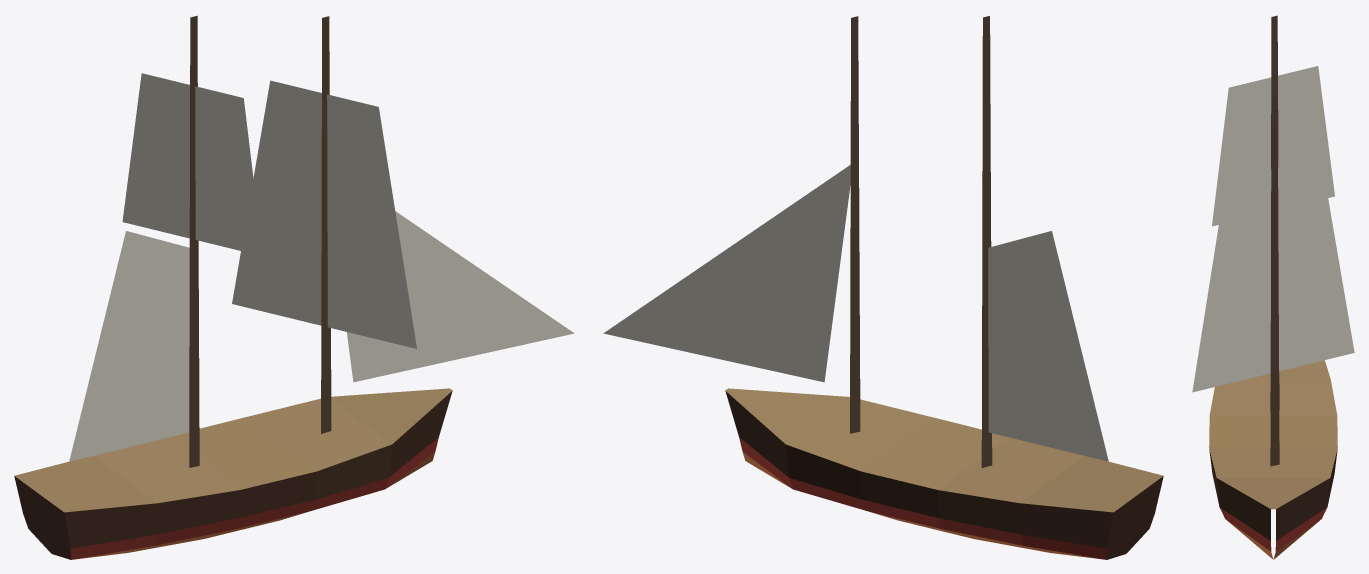
File: hull_gold_brig_medium_lod.glb
The picture shows the model from 3 angles, left to right: view 1: azimuth 30°, elevation 25°; view 2: azimuth 150°, elevation 25°; view 3: azimuth 270°, elevation 25°; orthographic projection. The views are drawn at different scales.
Parts seen in each view (by area): view 1: lod; view 2: lod; view 3: lod.
Part boxes in pixels (left/top/right/bottom): lod: left=14, top=15, right=574, bottom=559; lod: left=603, top=16, right=1163, bottom=559; lod: left=1192, top=15, right=1354, bottom=559.
Bounding box in the file's own units: 16.9 × 15.86 × 5.06.
